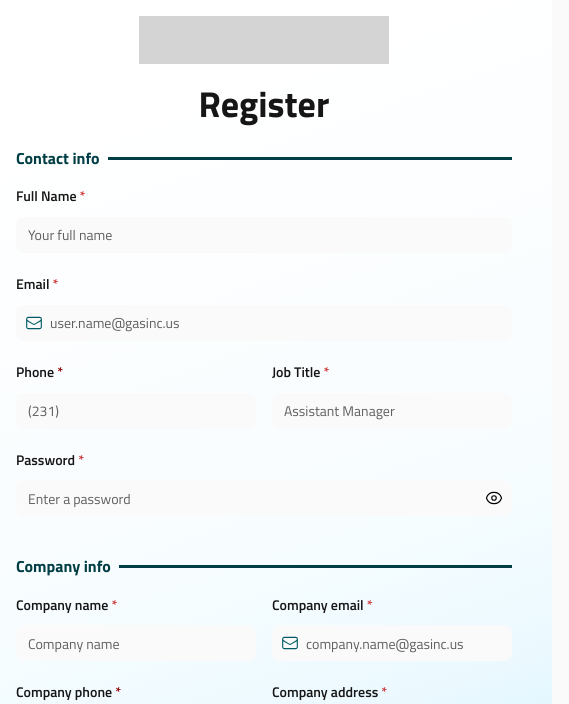
Test: RegisterForm Component › should show error message for invalid password
The width and height of the screenshot is (569, 704).
In the password field with test id "password-input": {"x": 264, "y": 498} [16,480,512,516], type "123"
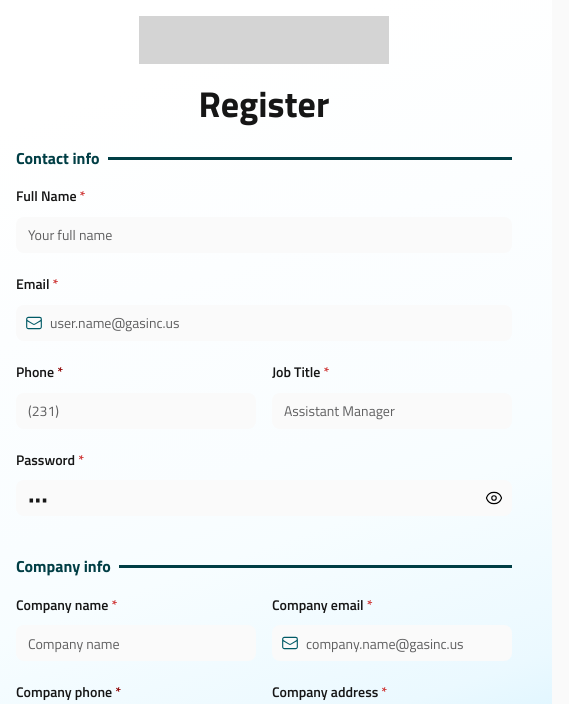
Press Tab
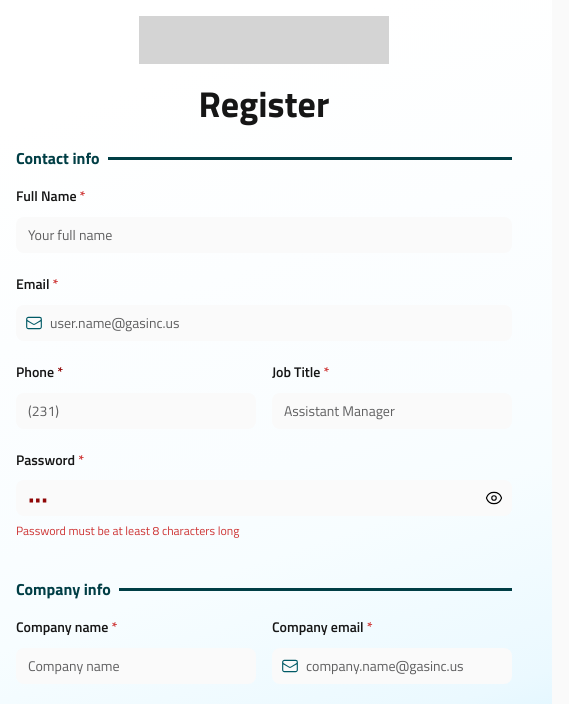
Expected: the text "Password must be at least 8 characters long" is shown, [16,521,239,540]
